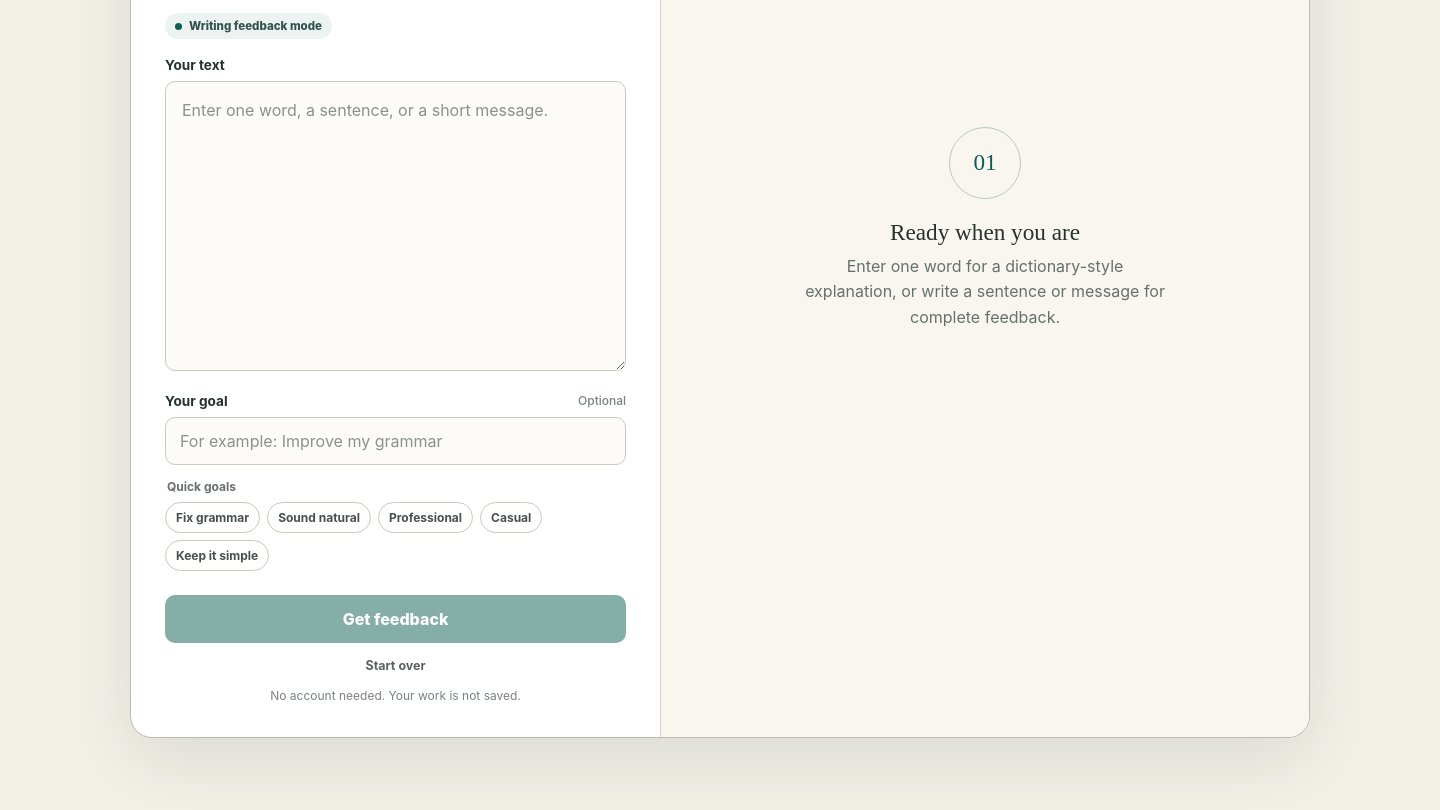
Writing Coach interactions › uses the natural version as new input while preserving the goal
(page scrolled)
Click the button "Professional".
click(425, 518)  # box 378,502 -> 473,533
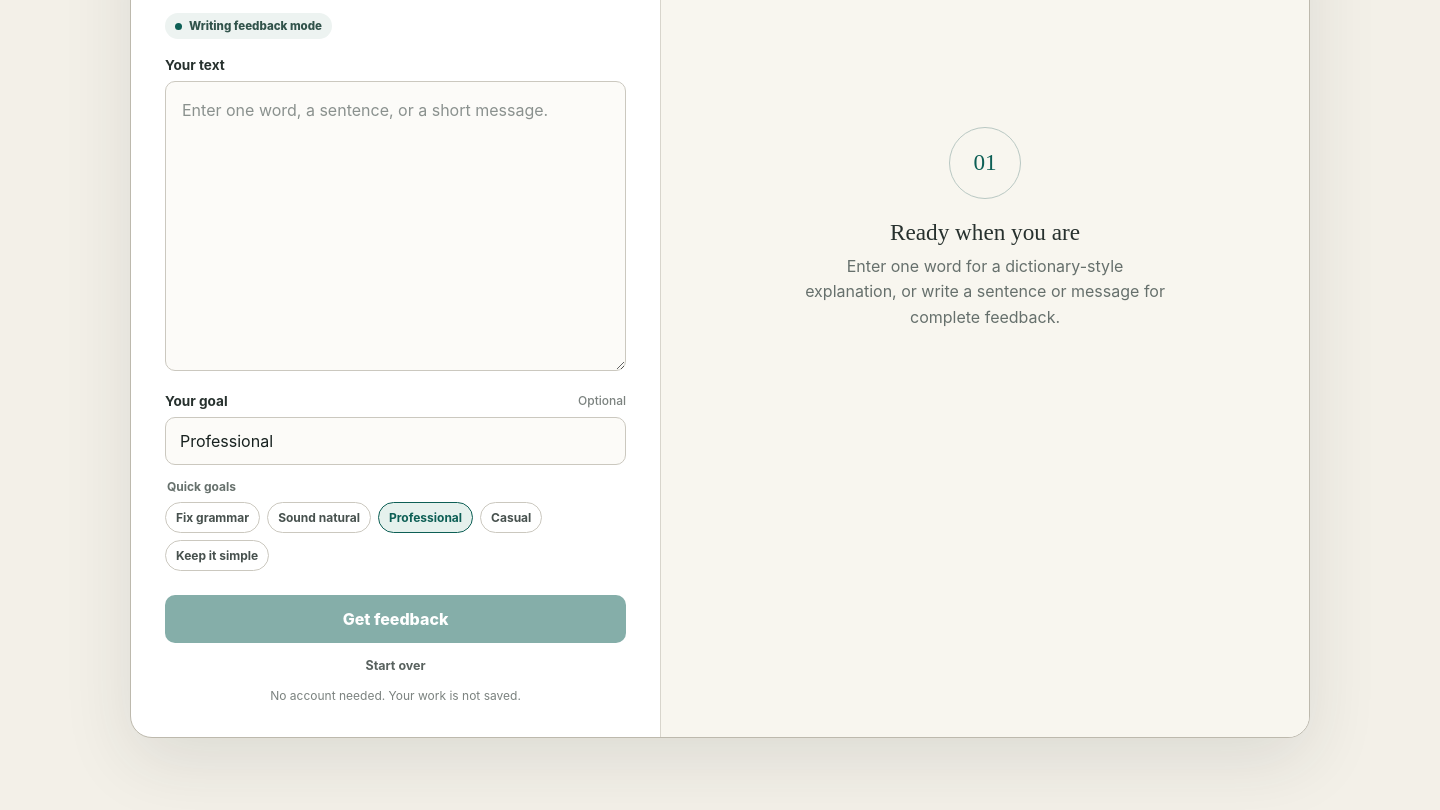
Type "I go supermarket yesterday." into the text box labelled "Your text".
click(396, 226); type("I go supermarket yesterday.")  # box 165,81 -> 626,371
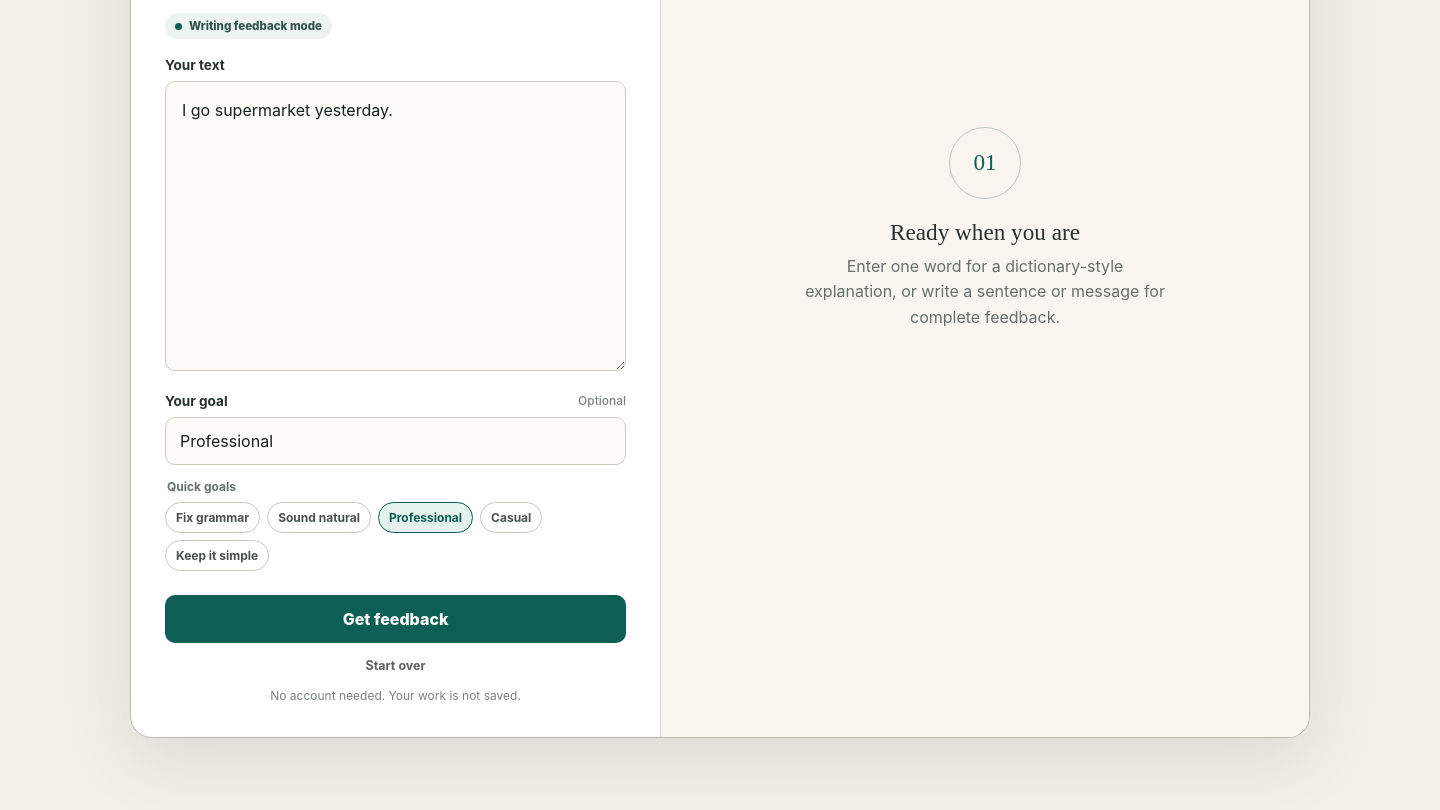
Click the button "Get feedback".
click(396, 619)  # box 165,595 -> 626,643
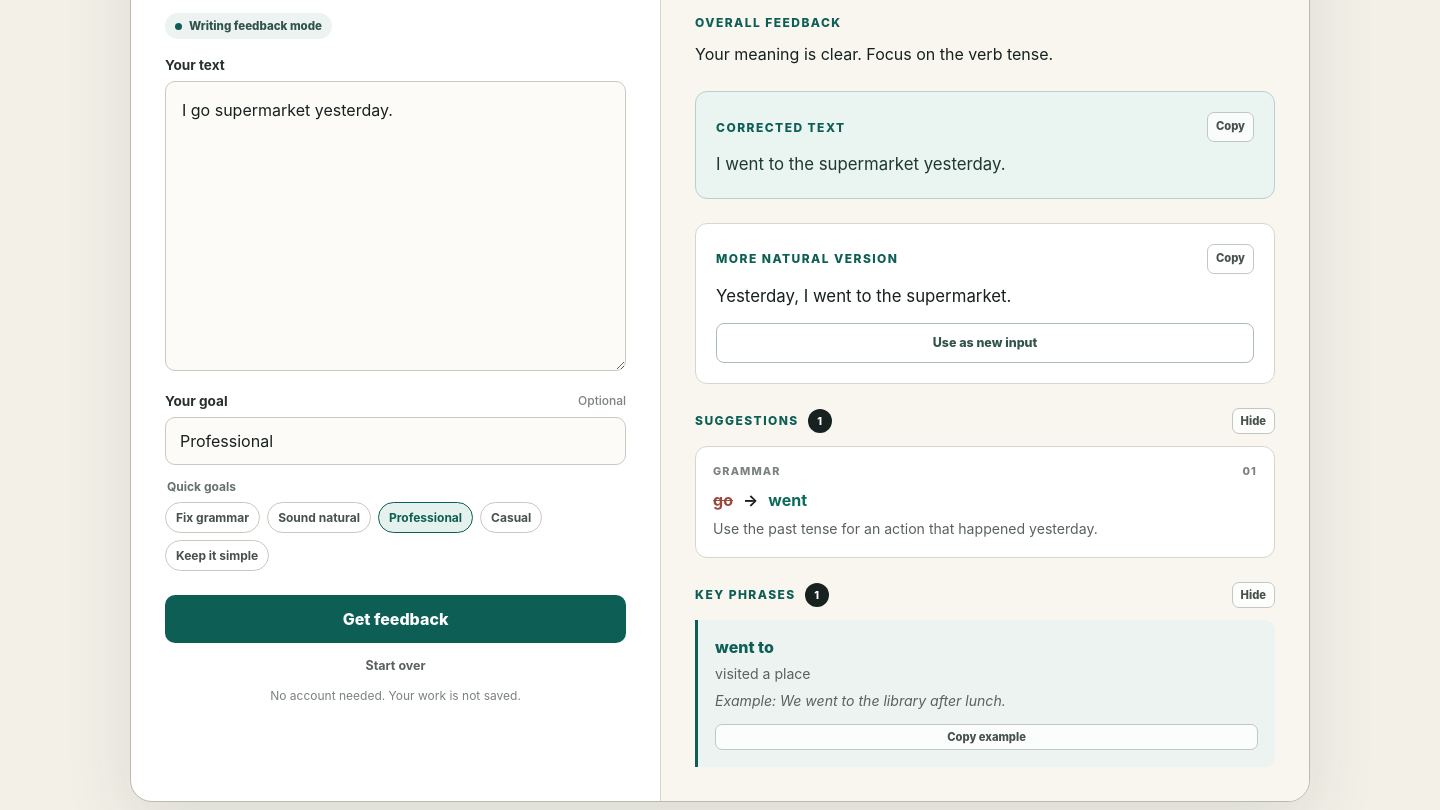
Now the text "More natural version" is shown, box 716,249 -> 898,269
Click the button "Use as new input".
click(985, 343)  # box 716,323 -> 1254,363
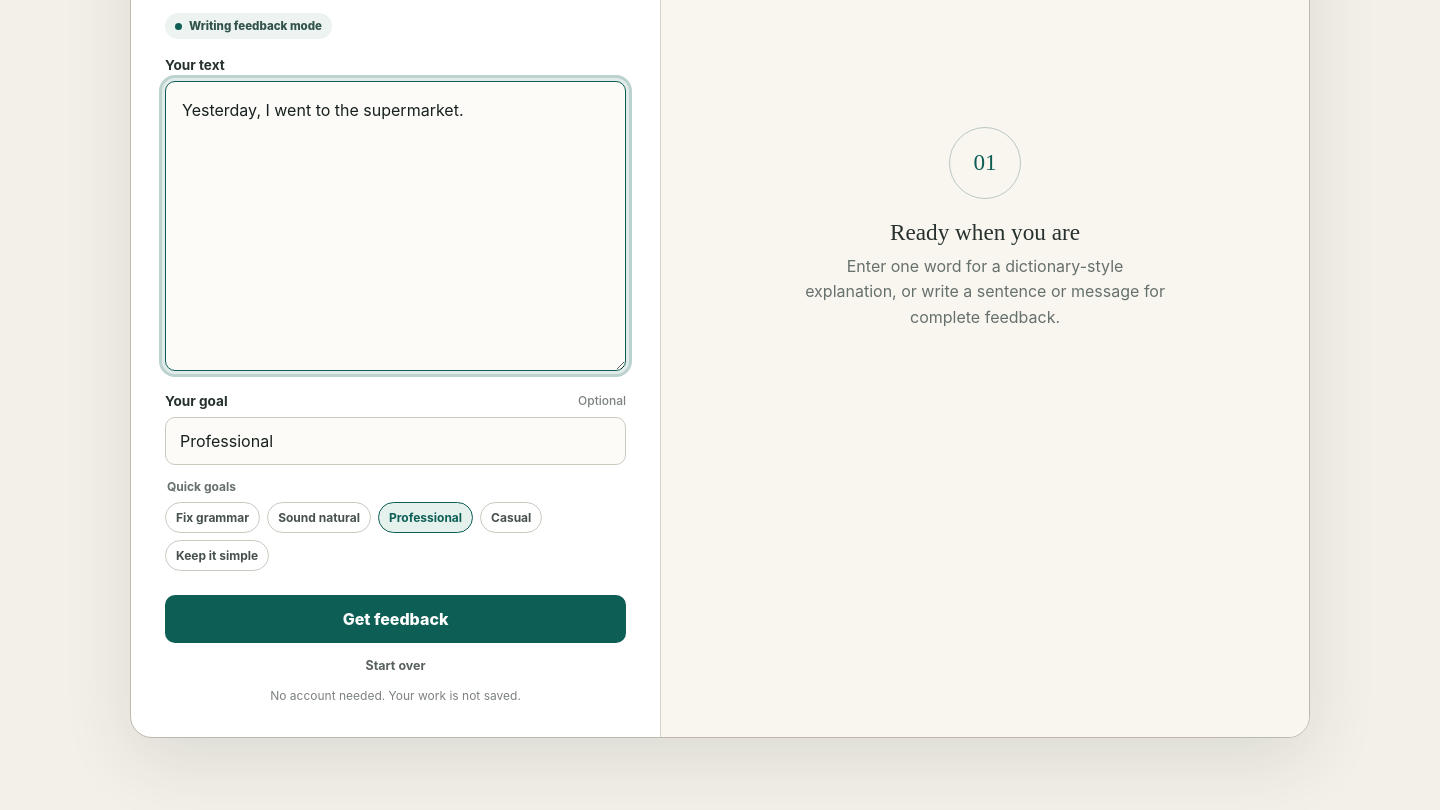
Now the field labelled "Your goal Optional" holds "Professional", box 165,417 -> 626,465
Now the text box labelled "Your text" holds "Yesterday, I went to the supermarket.", box 165,81 -> 626,371
Now the text "More natural version" is gone
